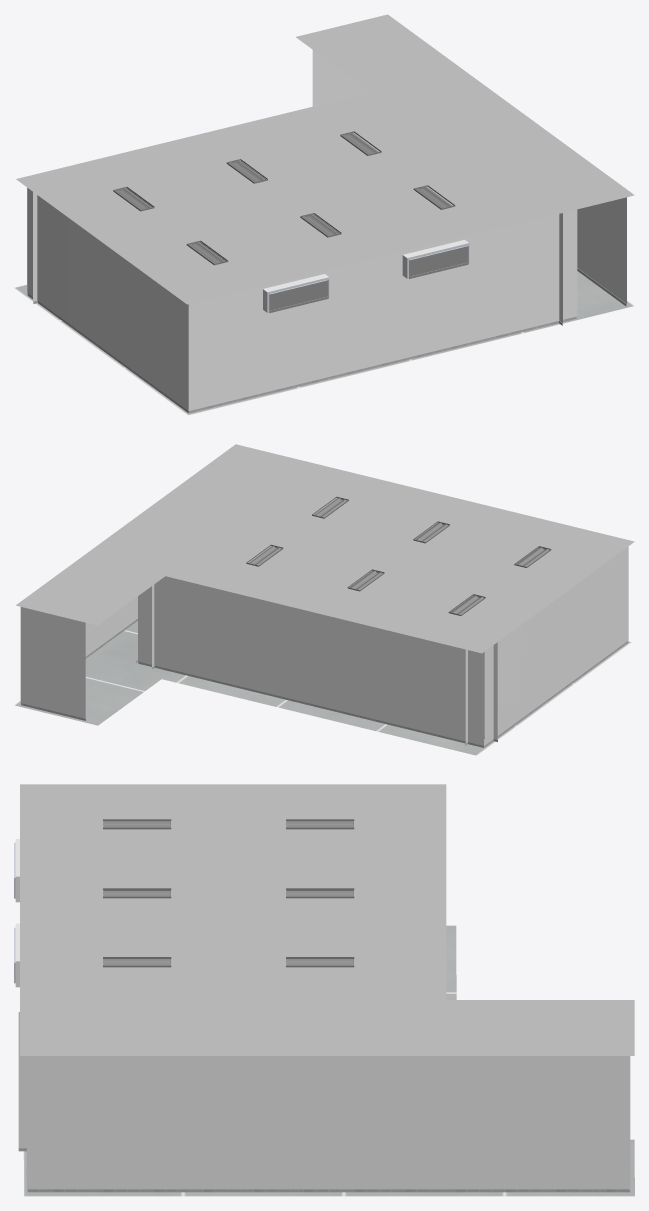
The model's file is lab.FBX.
3 renders of one model, top to bottom at view 1: azimuth 30°, elevation 25°; view 2: azimuth 150°, elevation 25°; view 3: azimuth 270°, elevation 25°, orthographic. The views are drawn at different scales.
Parts seen in each view (by area): view 1: roof, wall, wall_out, Floor, lights, SM_Glass_B; view 2: roof, wall, Floor, wall_out, lights; view 3: roof, wall_out, lights, Floor, wall.
Part boxes in pixels (<box>): roof: <box>16,14,634,304</box>; wall: <box>27,187,577,413</box>; wall_out: <box>312,50,626,306</box>; Floor: <box>14,271,634,415</box>; lights: <box>113,131,455,265</box>; SM_Glass_B: <box>269,246,468,312</box>; roof: <box>16,444,634,653</box>; wall: <box>136,546,628,747</box>; Floor: <box>14,621,631,755</box>; wall_out: <box>20,596,137,720</box>; lights: <box>246,496,551,615</box>; roof: <box>20,784,634,1055</box>; wall_out: <box>27,1056,630,1192</box>; lights: <box>103,819,354,967</box>; Floor: <box>23,925,634,1196</box>; wall: <box>14,839,26,1151</box>.
Size of the model in its own units: 12.86 by 3.11 by 12.37.
